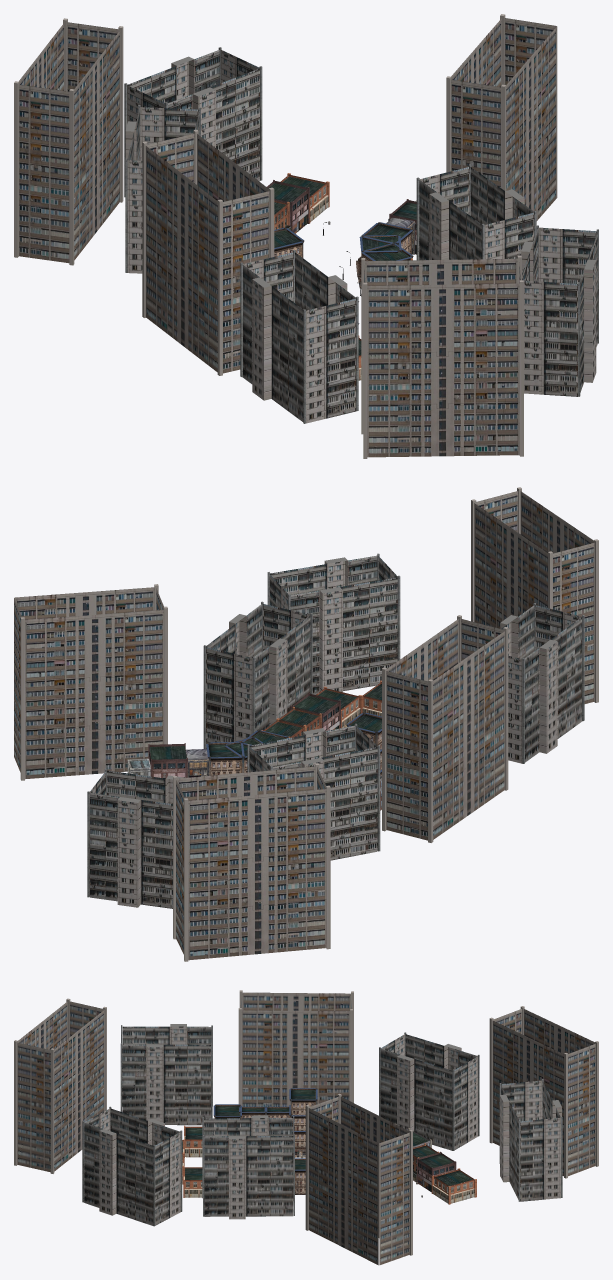
Rendered from far_s7.glb.
3 renders of one model, top to bottom at view 1: azimuth 30°, elevation 25°; view 2: azimuth 150°, elevation 25°; view 3: azimuth 270°, elevation 25°, orthographic. The views are drawn at different scales.
Visible parts, largest first — view 1: s7; view 2: s7; view 3: s7.
Part boxes in pixels (left/top/right/bottom): s7: left=14, top=14, right=598, bottom=458; s7: left=14, top=487, right=598, bottom=961; s7: left=14, top=990, right=598, bottom=1265.
Size of the model in its own units: 164 by 70.89 by 265.
Materials: 12 (11 with a texture image).
